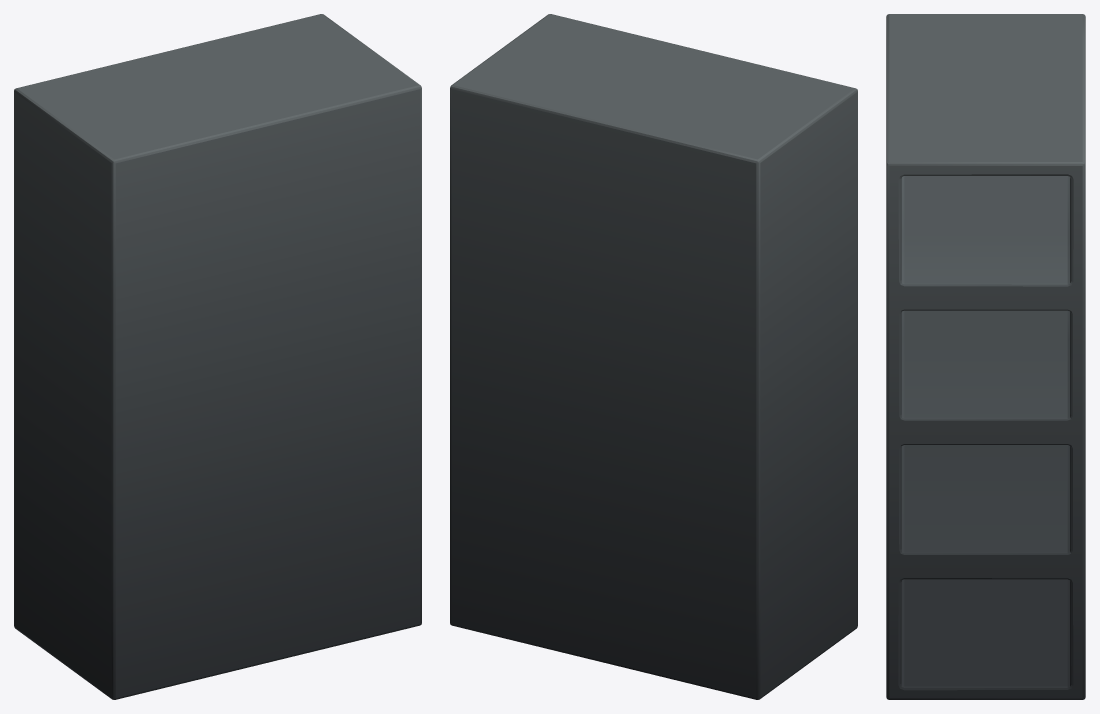
Rendered from Doc_Shelf_Broken.fbx.
The picture shows the model from 3 angles, left to right: view 1: azimuth 30°, elevation 25°; view 2: azimuth 150°, elevation 25°; view 3: azimuth 270°, elevation 25°; orthographic projection.
Parts seen in each view (by area): view 1: X_Doc_Shelf, X_Doc_Shelf.002, X_Doc_Shelf.001; view 2: X_Doc_Shelf, X_Doc_Shelf.002, X_Doc_Shelf.001; view 3: X_Doc_Shelf, X_Doc_Shelf.001, X_Doc_Shelf.002.
Boxes of the visible parts, x1=… form: X_Doc_Shelf: x1=14, y1=257, x2=421, y2=699; X_Doc_Shelf.002: x1=14, y1=76, x2=370, y2=543; X_Doc_Shelf.001: x1=65, y1=14, x2=421, y2=282; X_Doc_Shelf: x1=450, y1=257, x2=857, y2=699; X_Doc_Shelf.002: x1=501, y1=76, x2=857, y2=543; X_Doc_Shelf.001: x1=450, y1=14, x2=806, y2=282; X_Doc_Shelf: x1=886, y1=338, x2=1085, y2=699; X_Doc_Shelf.001: x1=886, y1=37, x2=1085, y2=360; X_Doc_Shelf.002: x1=886, y1=14, x2=1085, y2=338.
Size of the model in its own units: 200 by 333 by 112.
